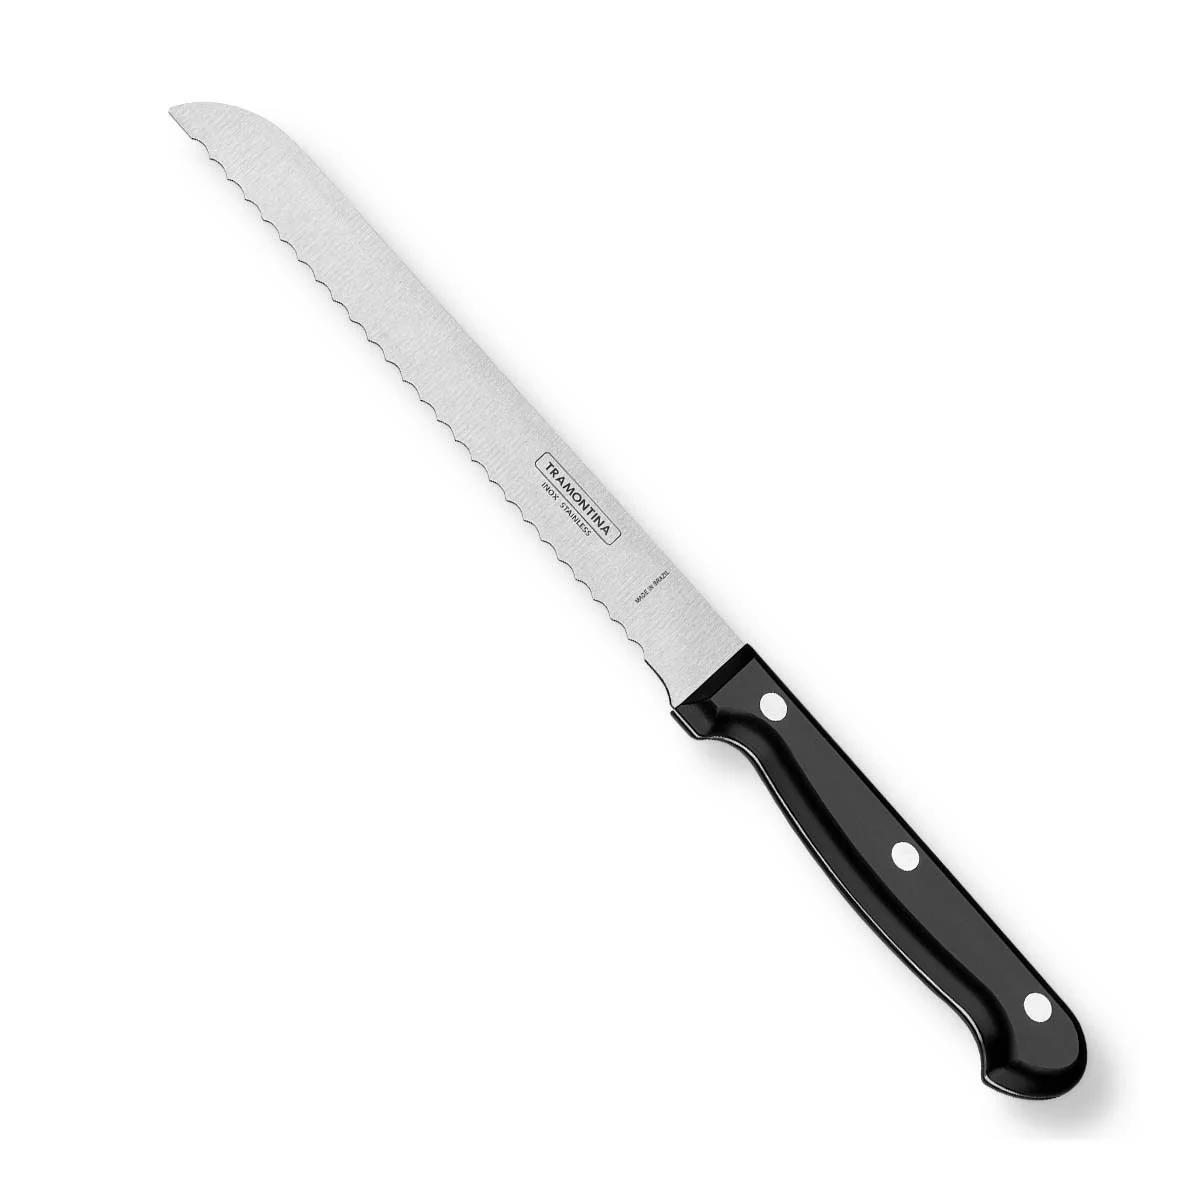knife: (115, 33, 1124, 1122)
